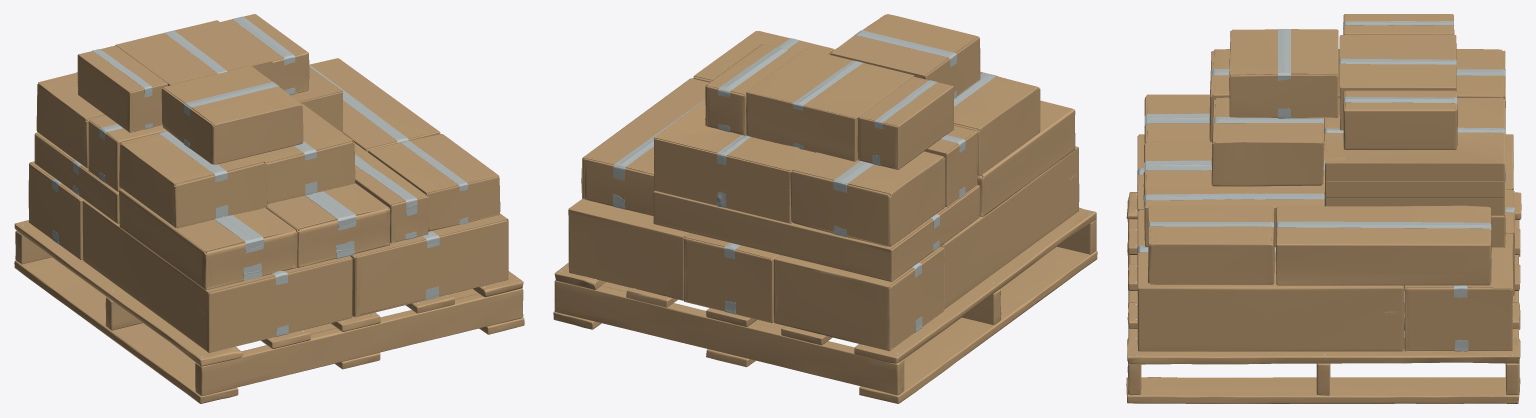
The model's file is pallet_assembly_a03.glb.
3 renders of one model, left to right at view 1: azimuth 30°, elevation 25°; view 2: azimuth 150°, elevation 25°; view 3: azimuth 270°, elevation 25°, orthographic. The views are drawn at different scales.
Size of the model in its own units: 0.9014 by 0.61 by 0.9035.
